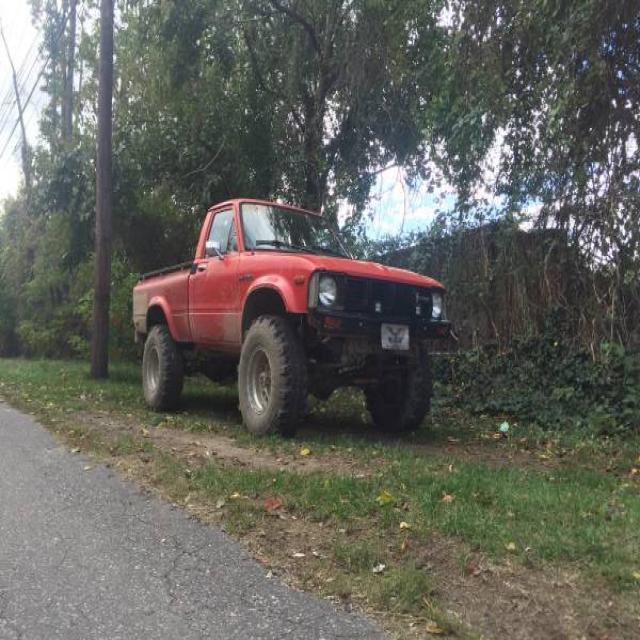light_vehicle: (130, 191, 456, 448)
